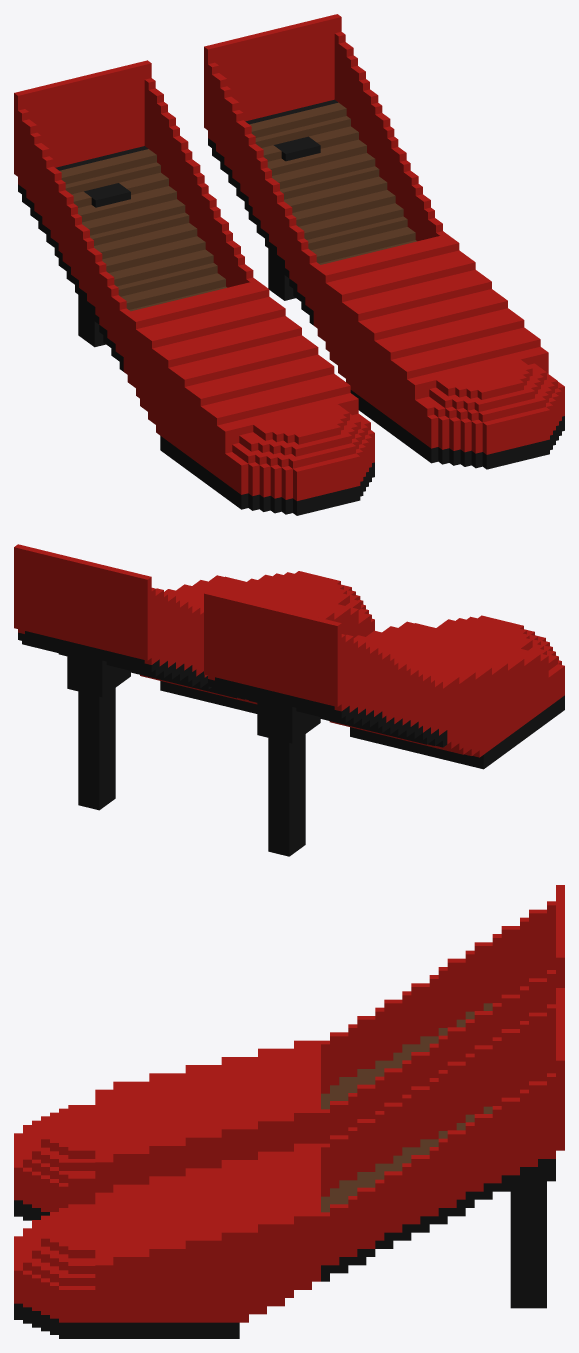
Rendered from heels.glb.
3 views of the same model, one above another, from view 1: azimuth 30°, elevation 25°; view 2: azimuth 150°, elevation 25°; view 3: azimuth 270°, elevation 25° (orthographic). The views are drawn at different scales.
Visible parts, largest first — view 1: heels:compound; view 2: heels:compound; view 3: heels:compound.
Boxes of the visible parts, left/top/right/bottom form: heels:compound: left=14, top=14, right=564, bottom=515; heels:compound: left=14, top=544, right=564, bottom=856; heels:compound: left=14, top=885, right=564, bottom=1338.
Bounding box in the file's own units: 0.184 × 0.136 × 0.244.
